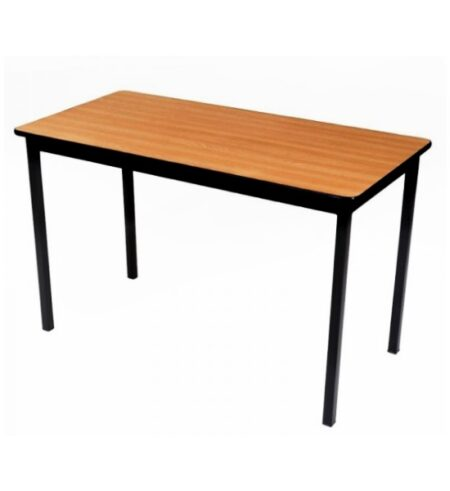m01: (14, 90, 431, 426)
